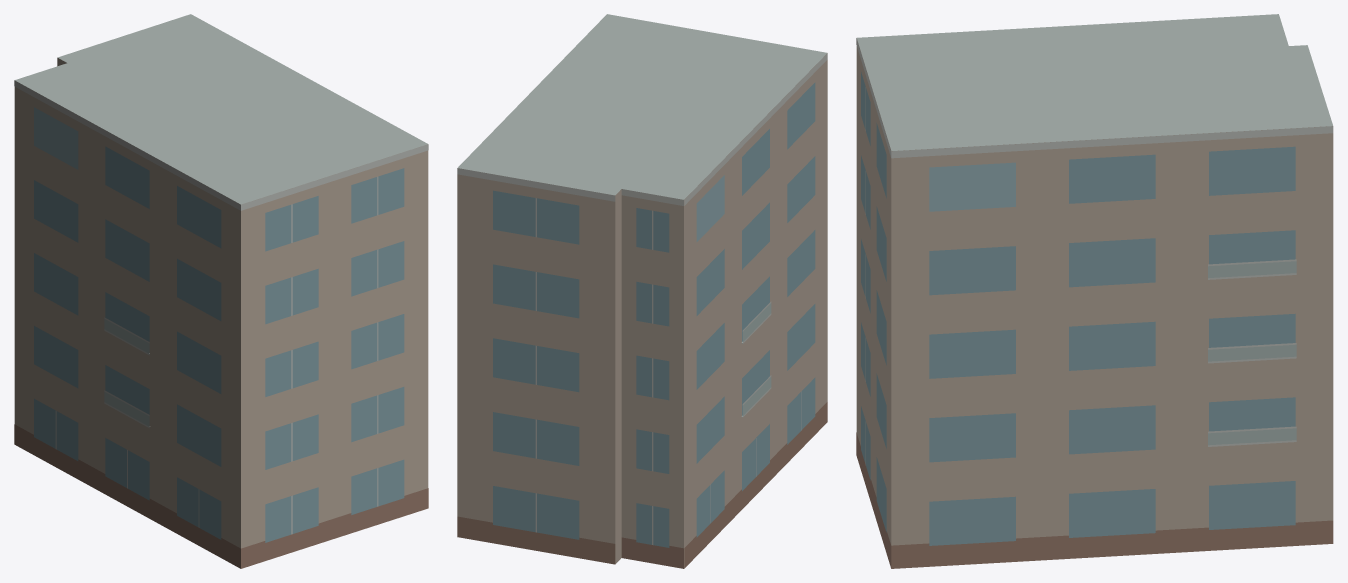
Rendered from survey-upis-32734499.glb.
3 views of the same model, side by side, from view 1: azimuth 30°, elevation 25°; view 2: azimuth 150°, elevation 25°; view 3: azimuth 270°, elevation 25° (orthographic). The views are drawn at different scales.
Visible parts, largest first — view 1: survey-upis-32734499.tmp; view 2: survey-upis-32734499.tmp; view 3: survey-upis-32734499.tmp.
Part boxes in pixels (x1,y1,x2,y2): survey-upis-32734499.tmp: (14, 14, 428, 568); survey-upis-32734499.tmp: (457, 14, 827, 568); survey-upis-32734499.tmp: (856, 14, 1333, 568).
Size of the model in its own units: 10.01 by 14.2 by 14.7.
